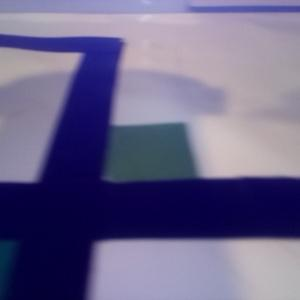top_right: (60, 123, 196, 181)
